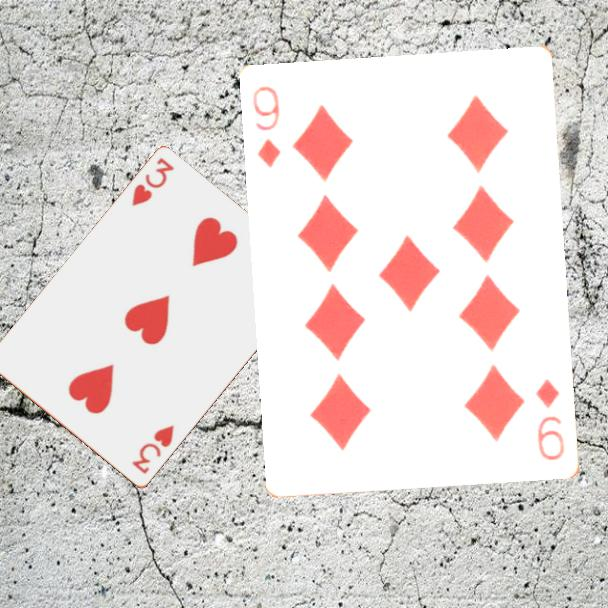d09: (532, 375, 568, 464), (249, 83, 284, 171)
h03: (128, 421, 177, 477), (128, 154, 177, 210)
